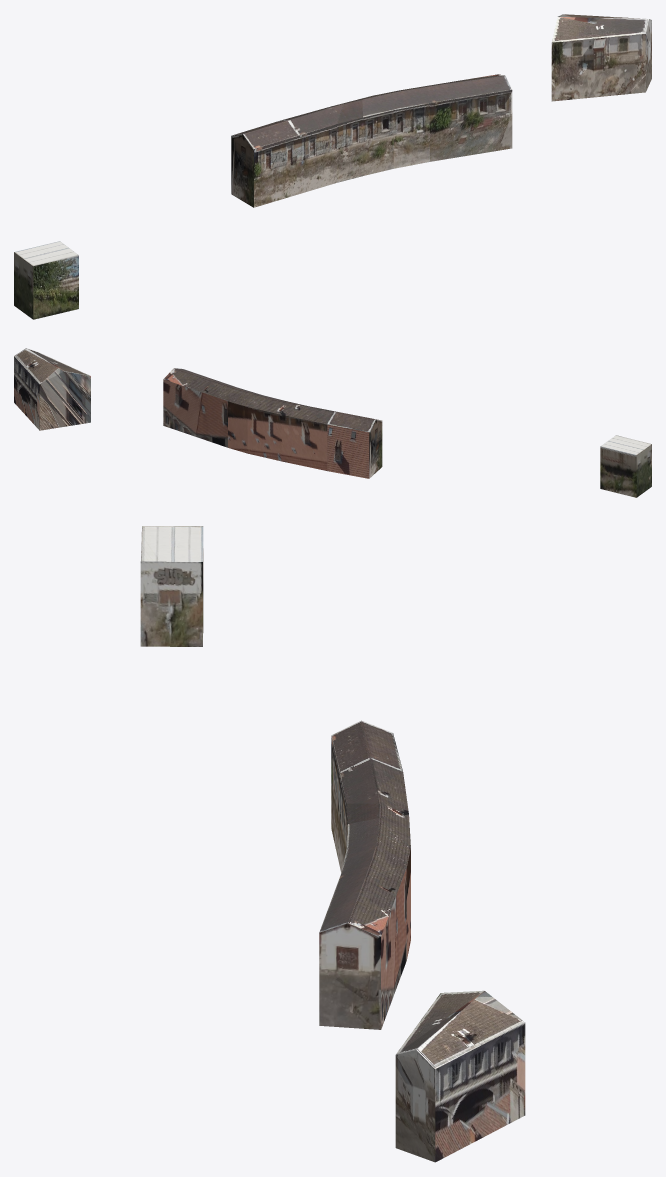
The picture shows the model from 3 angles, top to bottom: view 1: azimuth 30°, elevation 25°; view 2: azimuth 150°, elevation 25°; view 3: azimuth 270°, elevation 25°; orthographic projection. The views are drawn at different scales.
Visible parts, largest first — view 1: Z_UP; view 2: Z_UP; view 3: Z_UP.
Part boxes in pixels (<box>): Z_UP: <box>14,14,651,319</box>; Z_UP: <box>14,348,651,497</box>; Z_UP: <box>140,526,525,1162</box>.
Size of the model in its own units: 124 by 11.59 by 36.47.
Materials: 2 (1 with a texture image).
